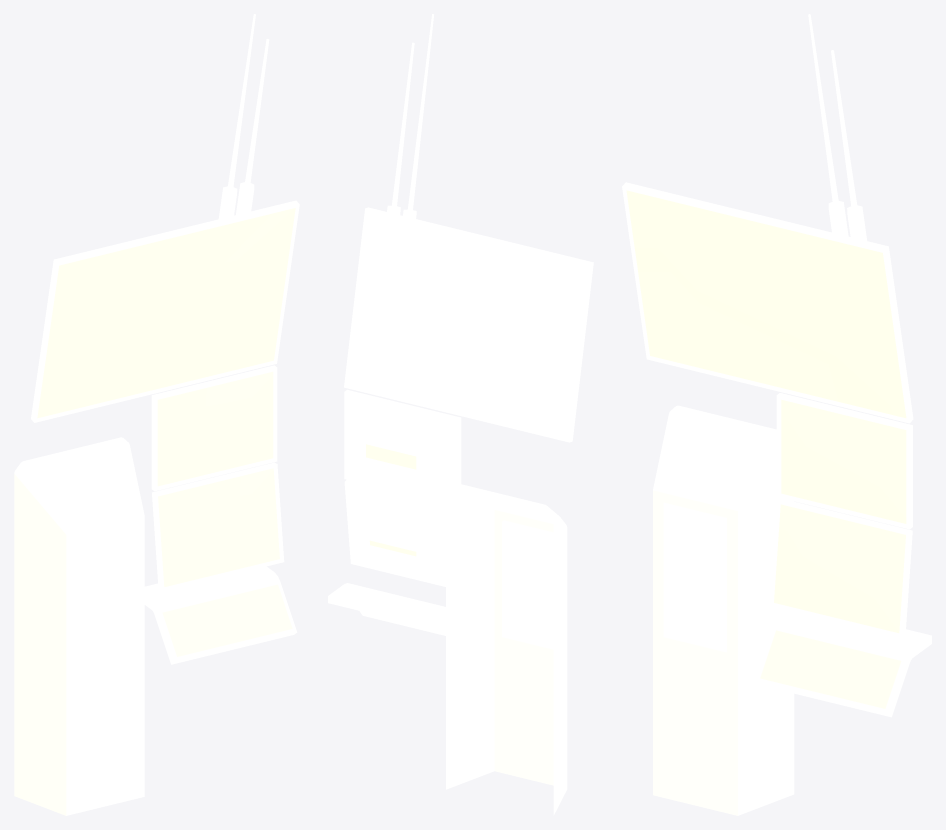
The model's file is Office_Assets_Monitoring_Screens_Console_Var_1.glb.
The picture shows the model from 3 angles, left to right: view 1: azimuth 30°, elevation 25°; view 2: azimuth 150°, elevation 25°; view 3: azimuth 330°, elevation 25°; orthographic projection. The views are drawn at different scales.
Parts seen in each view (by area): view 1: Monitoring_Screens_Console; view 2: Monitoring_Screens_Console; view 3: Monitoring_Screens_Console.
Boxes of the visible parts, left/top/right/bottom form: Monitoring_Screens_Console: left=14, top=14, right=299, bottom=815; Monitoring_Screens_Console: left=328, top=14, right=593, bottom=815; Monitoring_Screens_Console: left=622, top=14, right=931, bottom=815.
Size of the model in its own units: 0.9727 by 2.97 by 0.3887.
